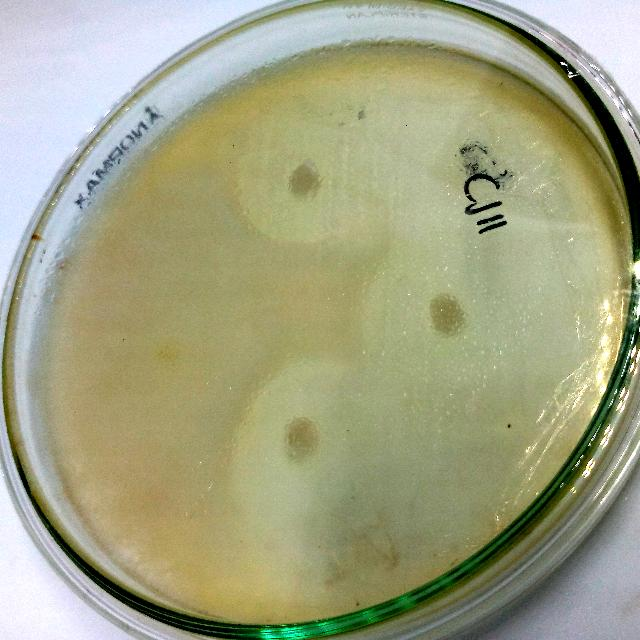colony: (262, 402, 332, 468), (423, 293, 471, 341), (280, 156, 326, 204)
